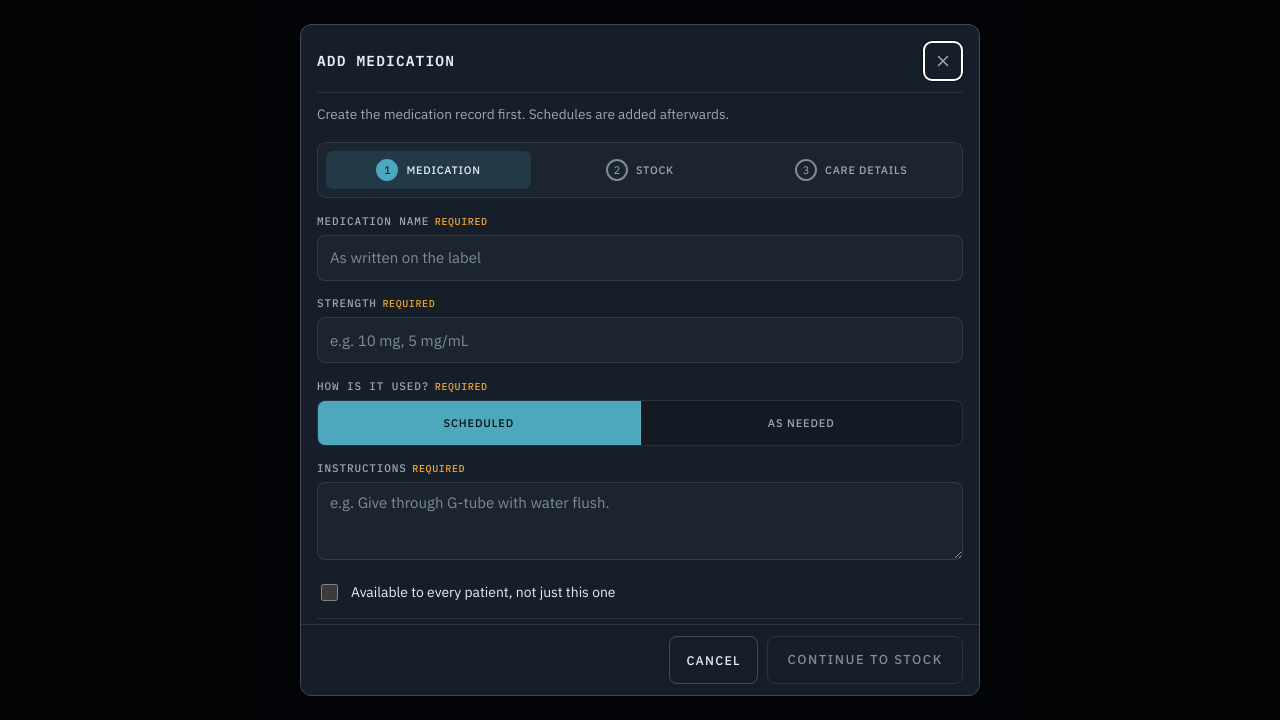
Scenario: adding a medication › walks three steps and will not advance without the first
Check: the button "Continue to stock" is disabled, box x1=767 y1=636 x2=963 y2=684
Type "Baclofen" into the field labelled "Medication name Required" at (640, 258), box x1=317 y1=235 x2=963 y2=281
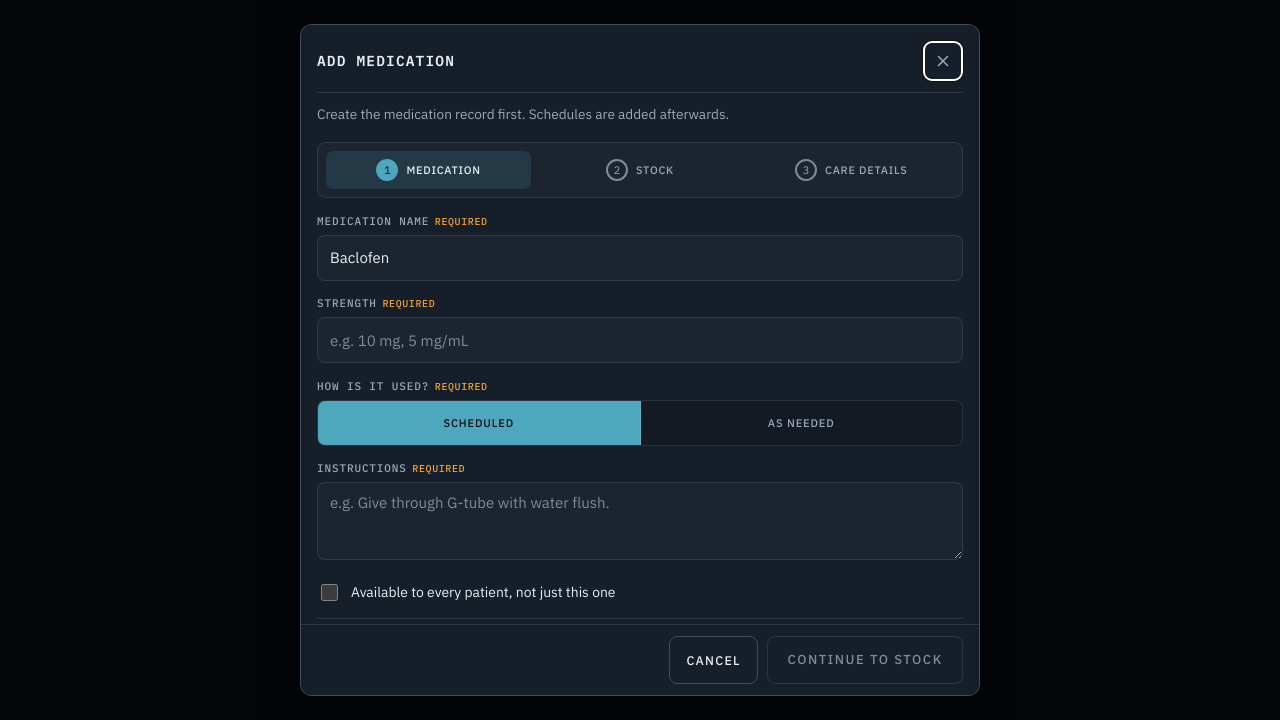
Type "10 mg" into the field labelled "Strength Required" at (640, 340), box x1=317 y1=317 x2=963 y2=363
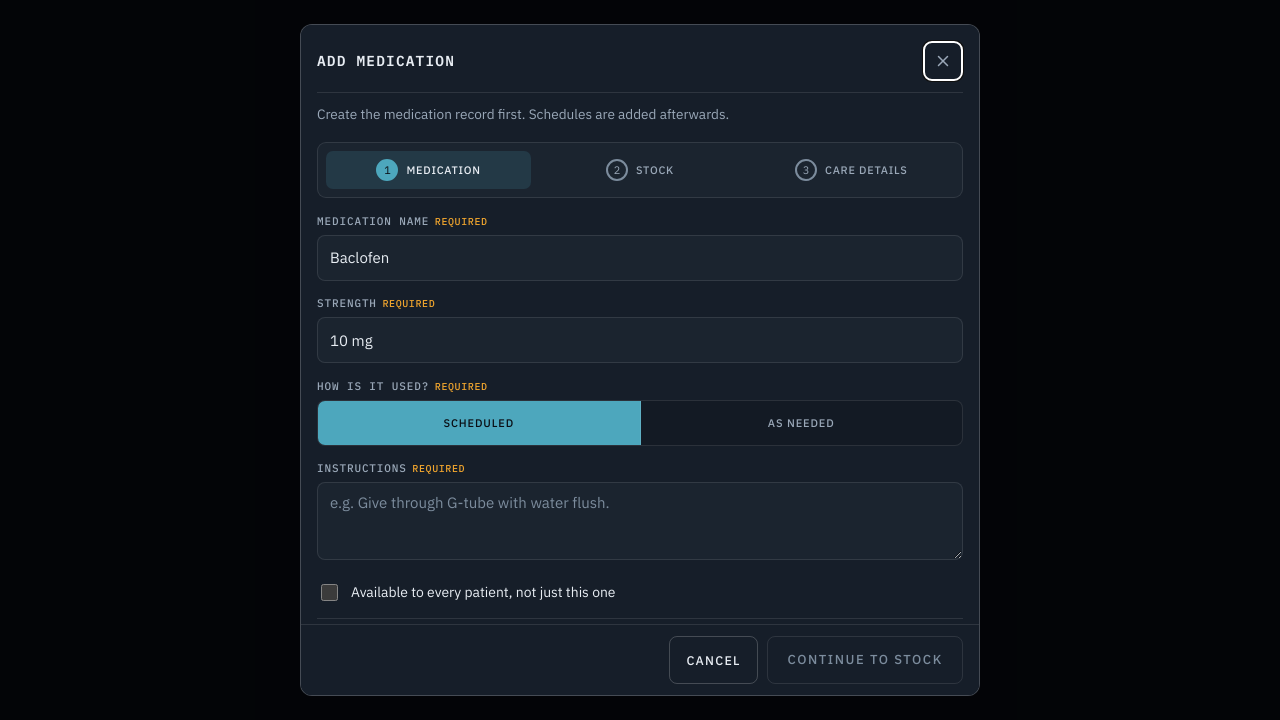
Type "Give 1" into the text box labelled "Instructions Required" at (640, 521), box x1=317 y1=482 x2=963 y2=560
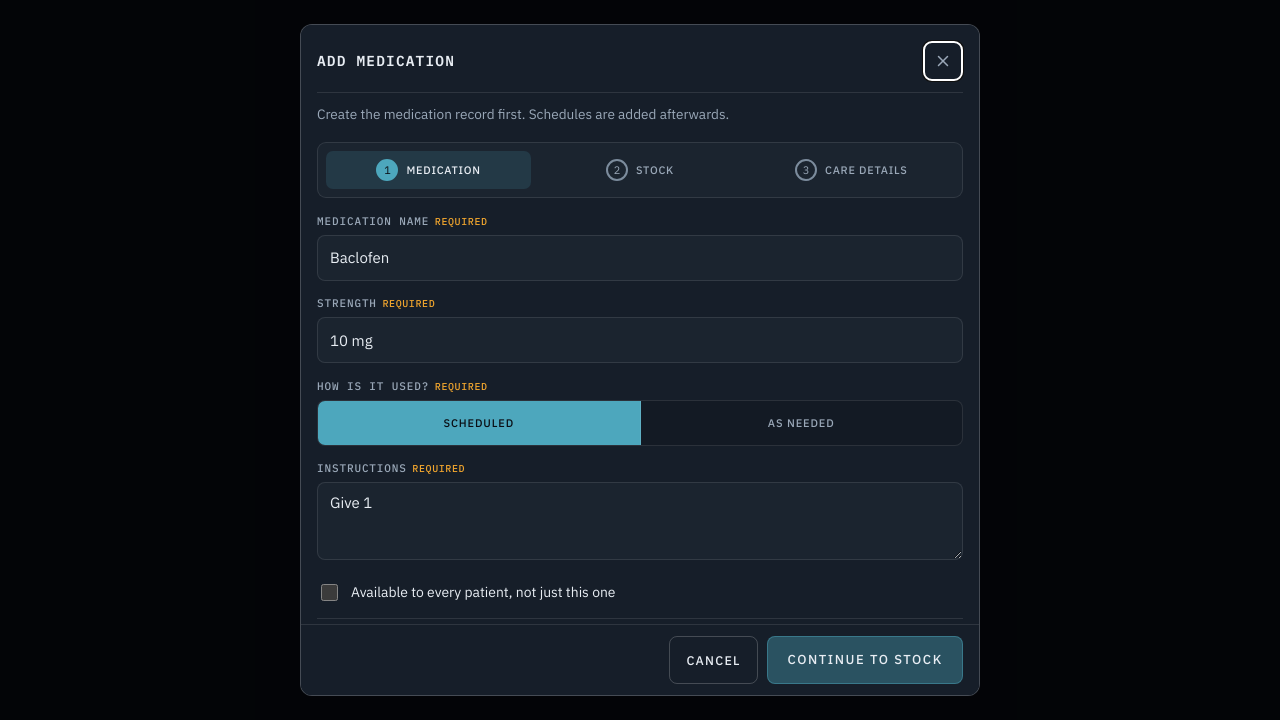
Check: the button "Continue to stock" is enabled, box x1=767 y1=636 x2=963 y2=684
